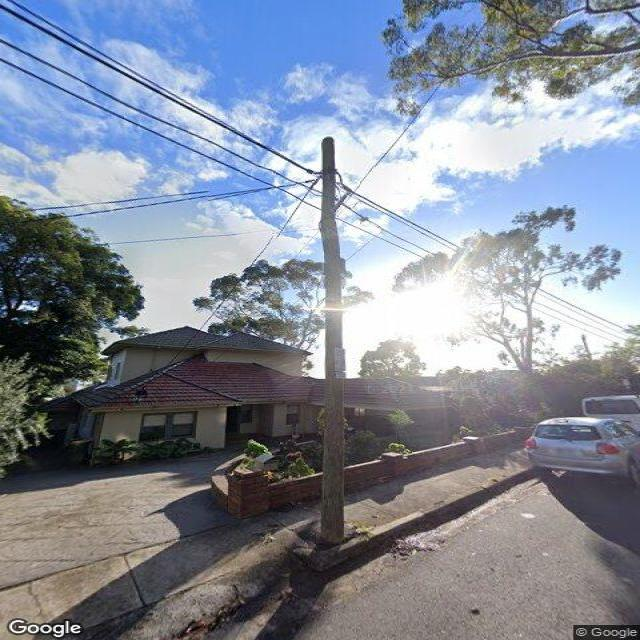timber-pole: (318, 134, 354, 547)
